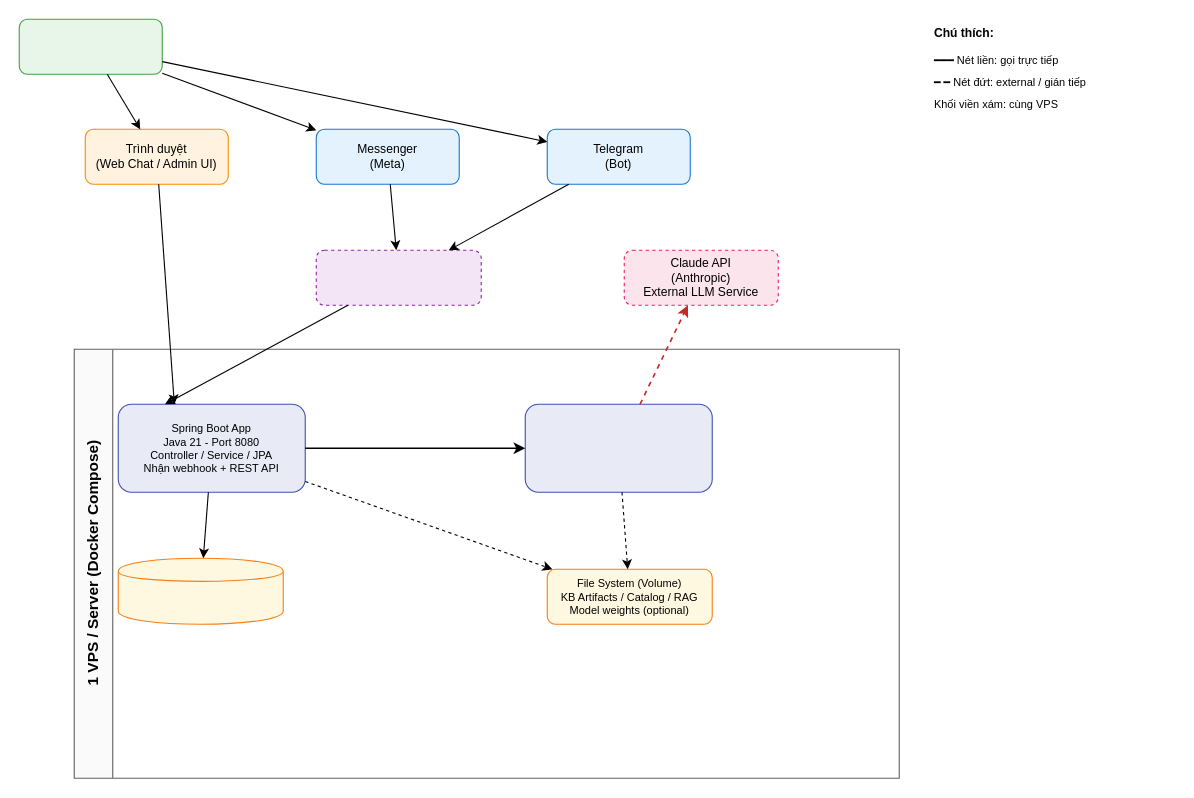
Some shapes in this 1194 by 798 pixel diagram are drawn without their labels. Each missing label, with the centre of its shape:
"FastAPI Chatbot Runtime Python 3.11 - Port 8000 Retrieval / Prompt / Fallback" belongs at pixel 618 447.
"ngrok (Public HTTPS Tunnel) (chỉ dev, có domain thì bỏ)" belongs at pixel 398 277.
"Người dùng cuối" belongs at pixel 90 46.
"PostgreSQL 16 Port 5432 Tenant / User / Msg Lead / Artifact Meta" belongs at pixel 200 590.
